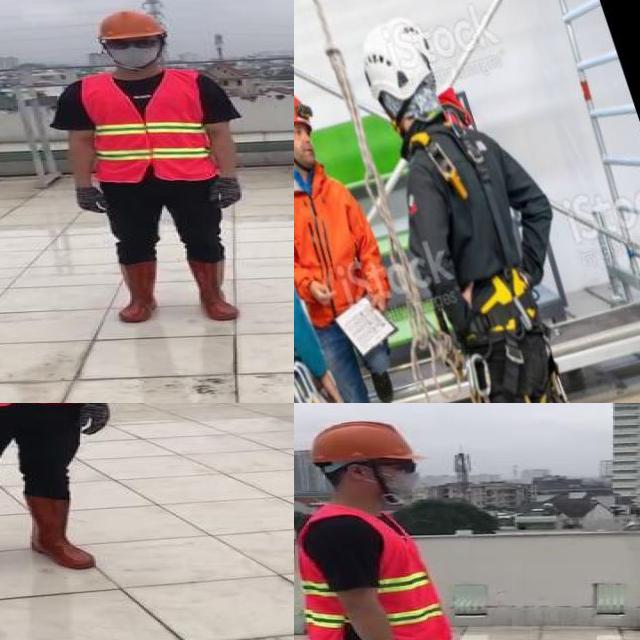Harness: (453, 133, 540, 346)
boots: (14, 494, 100, 570), (185, 259, 239, 322), (112, 262, 166, 322)
face_mask: (102, 34, 164, 68), (371, 458, 423, 498)
glasses: (99, 35, 166, 52)
hand_glove: (79, 403, 117, 434), (210, 178, 246, 207), (71, 187, 109, 214)
head_helmet: (308, 418, 427, 464), (93, 8, 167, 41)
person: (50, 8, 260, 328), (294, 418, 468, 640), (0, 403, 125, 578)
vest: (294, 507, 449, 640), (78, 69, 215, 181)
